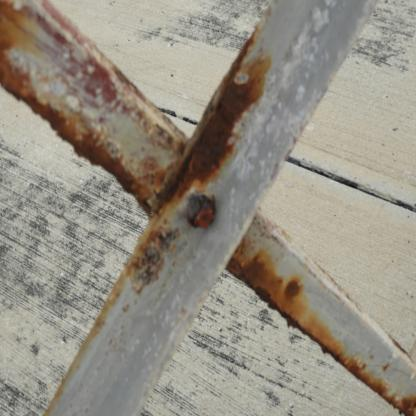Grado3: (0, 50, 143, 226), (170, 46, 254, 192), (237, 255, 311, 336), (340, 348, 410, 416), (341, 351, 348, 358)
